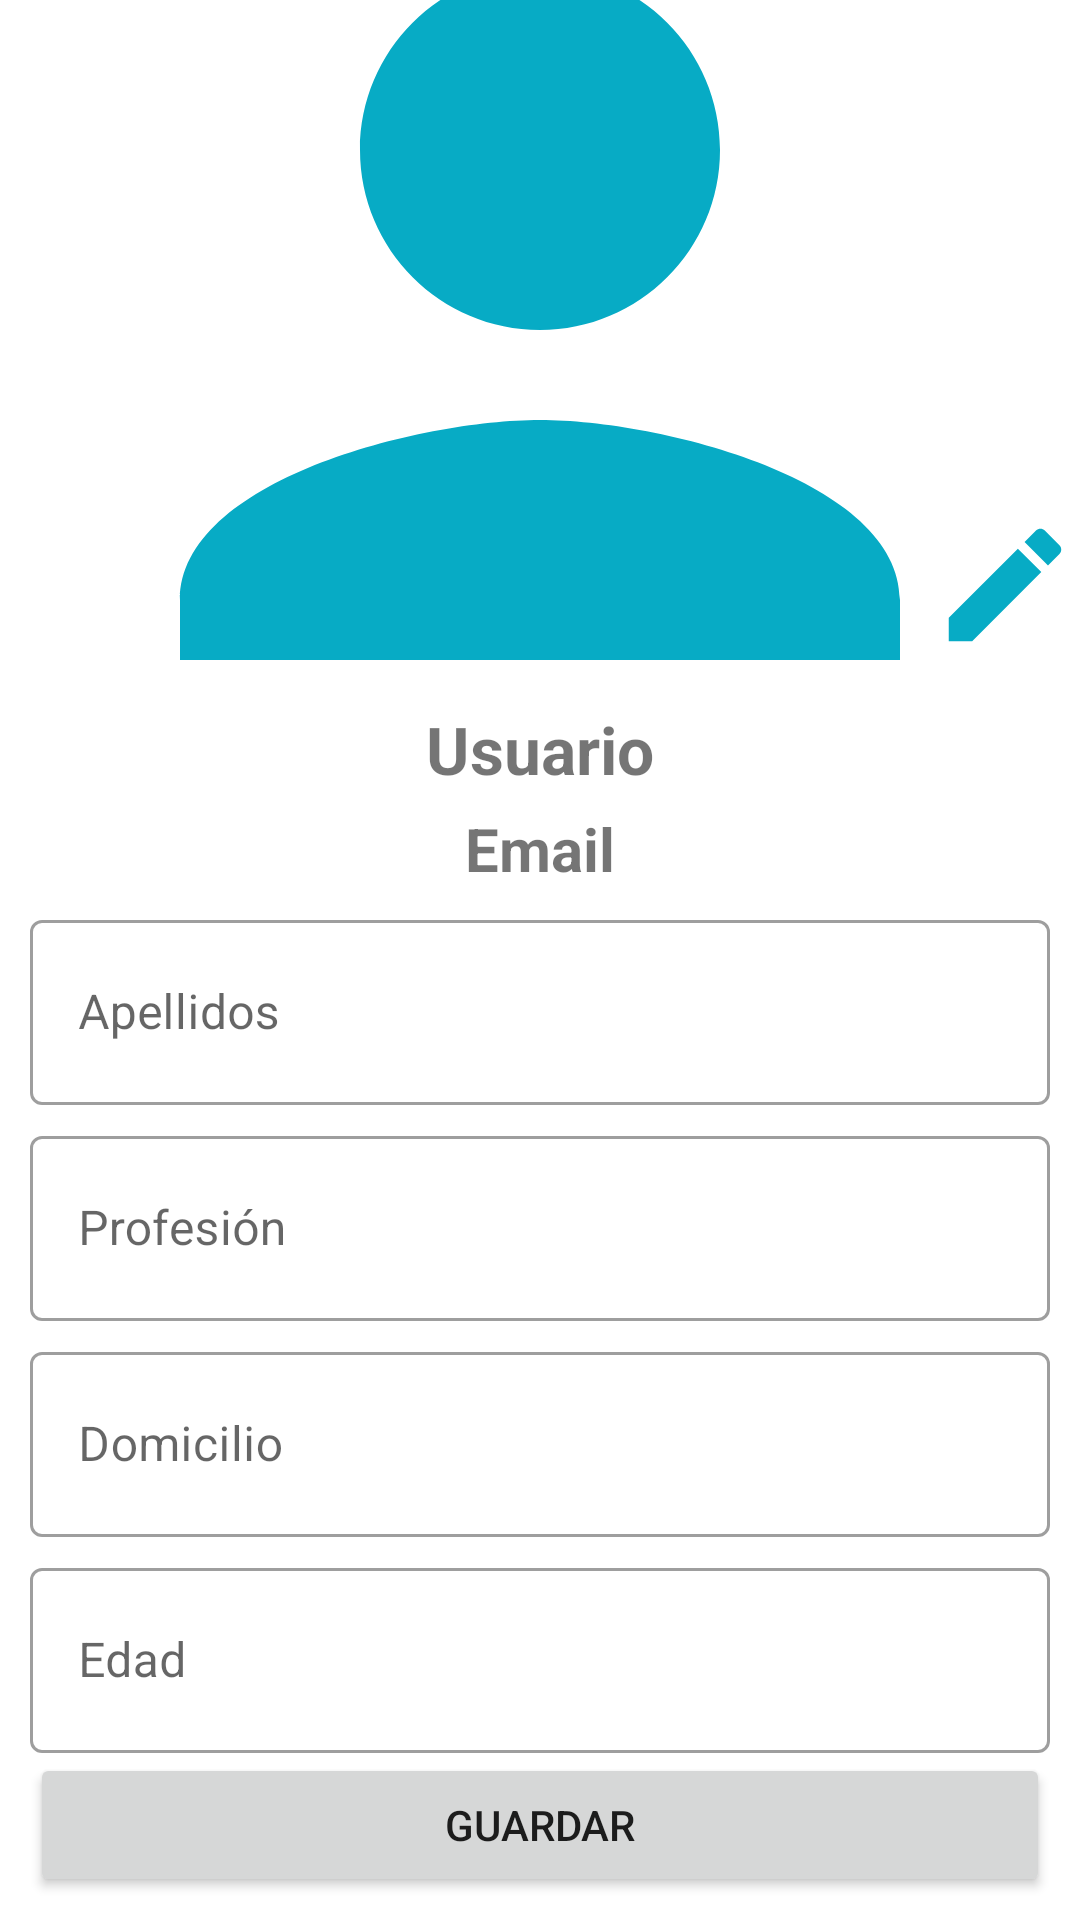

Screen size 1080px×1920px. Icon name, then its box in pixels as (x1, y1, x2, y2):
edit: (948, 528, 1062, 642)
